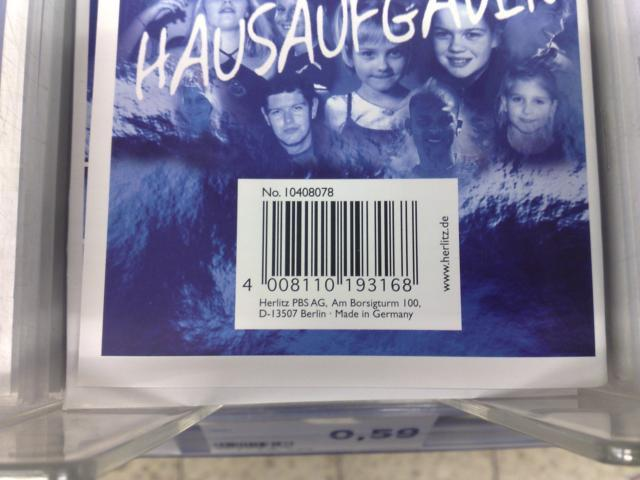Barcode: (239, 198, 431, 296)
